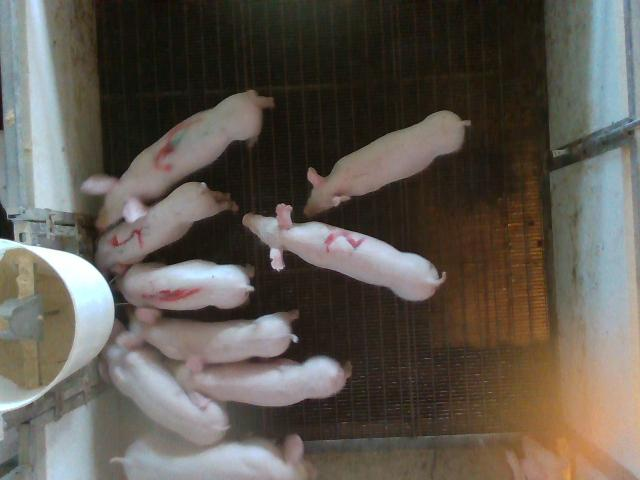pig-1: (118, 260, 254, 324)
pig-2: (242, 204, 445, 301)
pig-3: (81, 90, 274, 231)
pig-5: (95, 182, 238, 274)
